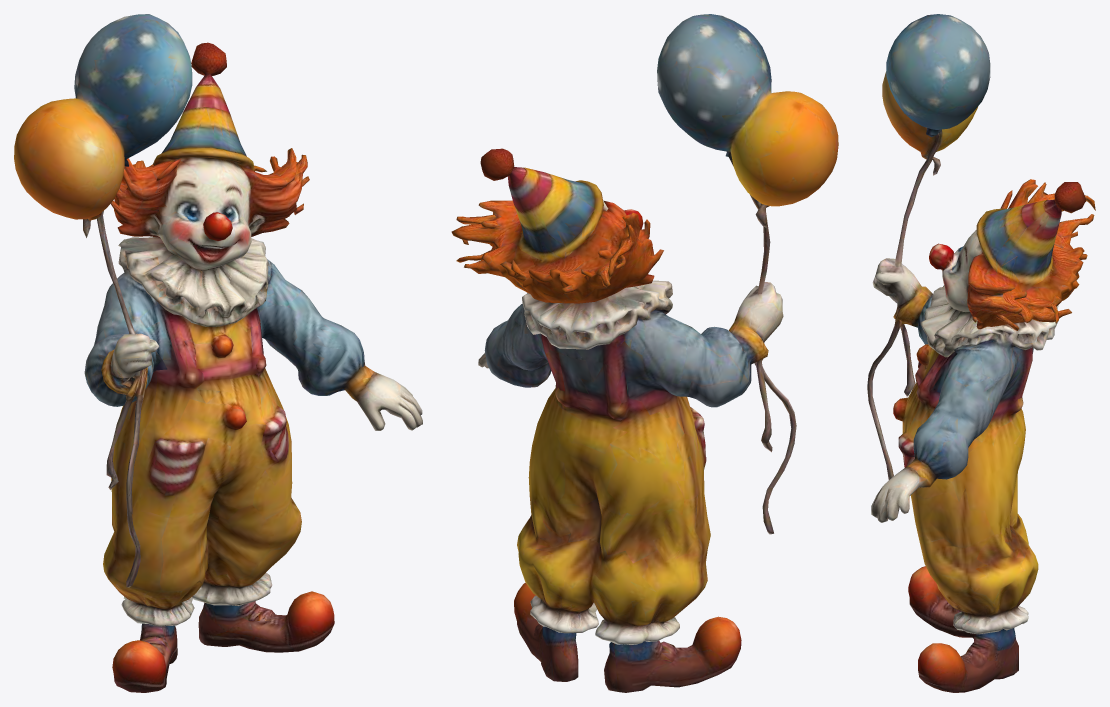
The picture shows the model from 3 angles, left to right: view 1: azimuth 30°, elevation 25°; view 2: azimuth 150°, elevation 25°; view 3: azimuth 270°, elevation 25°; orthographic projection. The views are drawn at different scales.
Visible parts, largest first — view 1: Mesh_0; view 2: Mesh_0; view 3: Mesh_0.
Part boxes in pixels (left/top/right/bottom): Mesh_0: left=14, top=14, right=422, bottom=692; Mesh_0: left=451, top=14, right=838, bottom=692; Mesh_0: left=867, top=14, right=1095, bottom=692.
Size of the model in its own units: 1.12 by 1.91 by 0.6536.
Materials: 1 (1 with a texture image).
